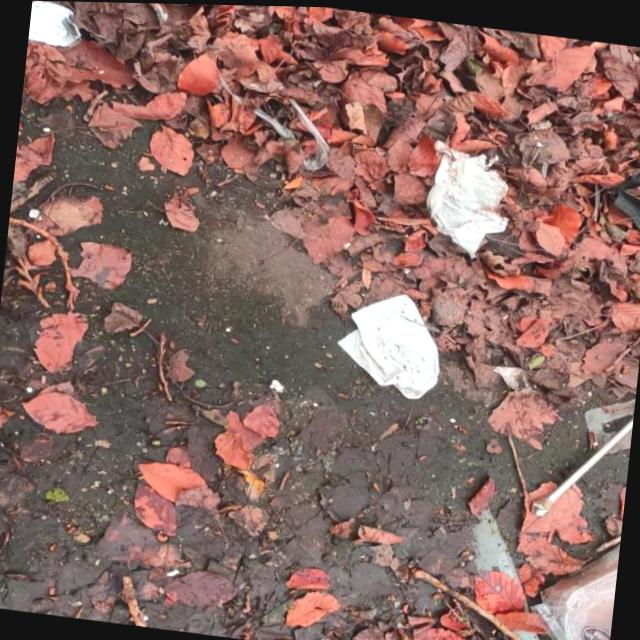Paper: (330, 281, 450, 400), (419, 134, 519, 262), (27, 0, 90, 50)
